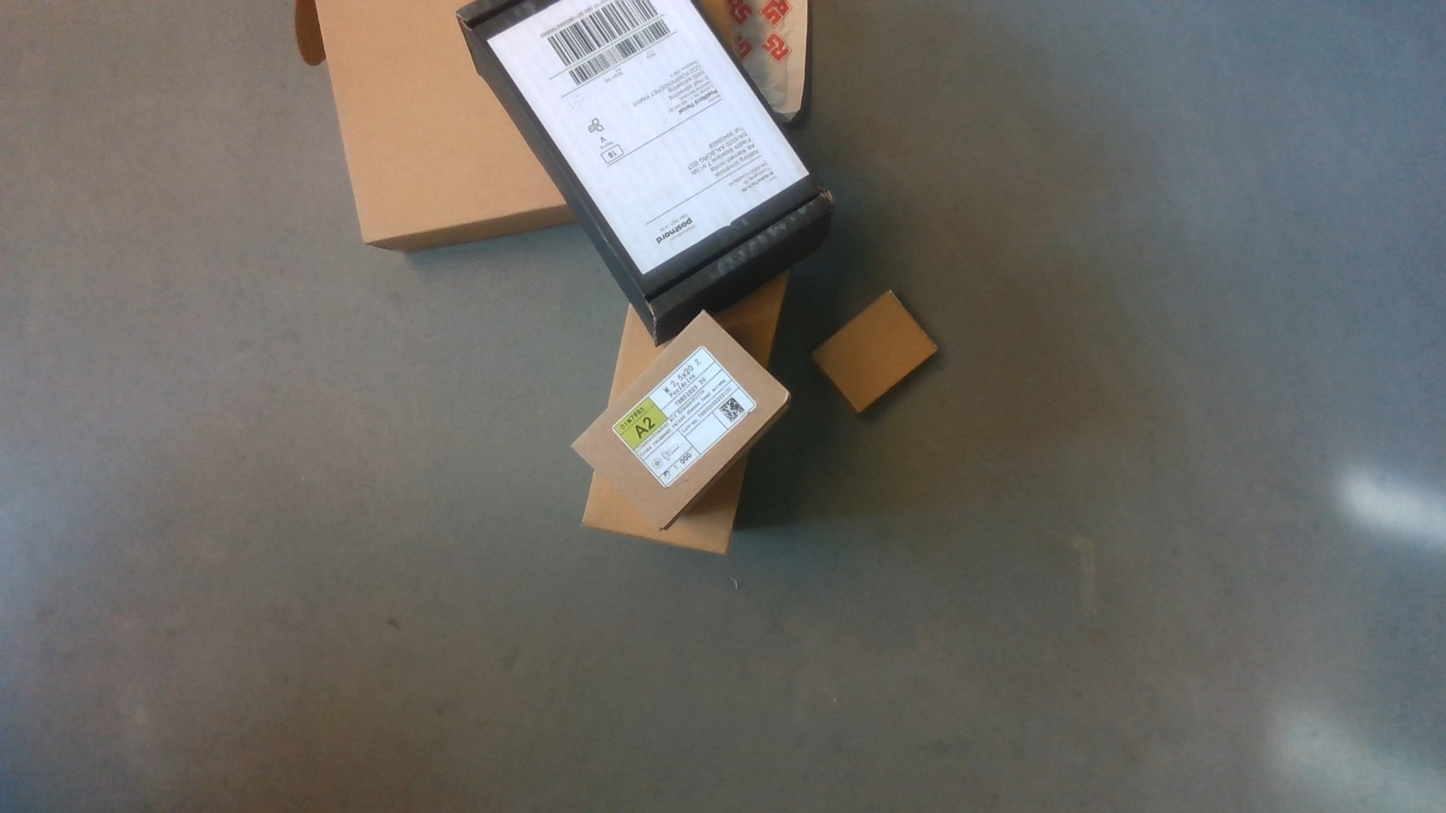Parcel: (455, 0, 833, 316), (568, 310, 791, 529), (811, 289, 940, 412)
